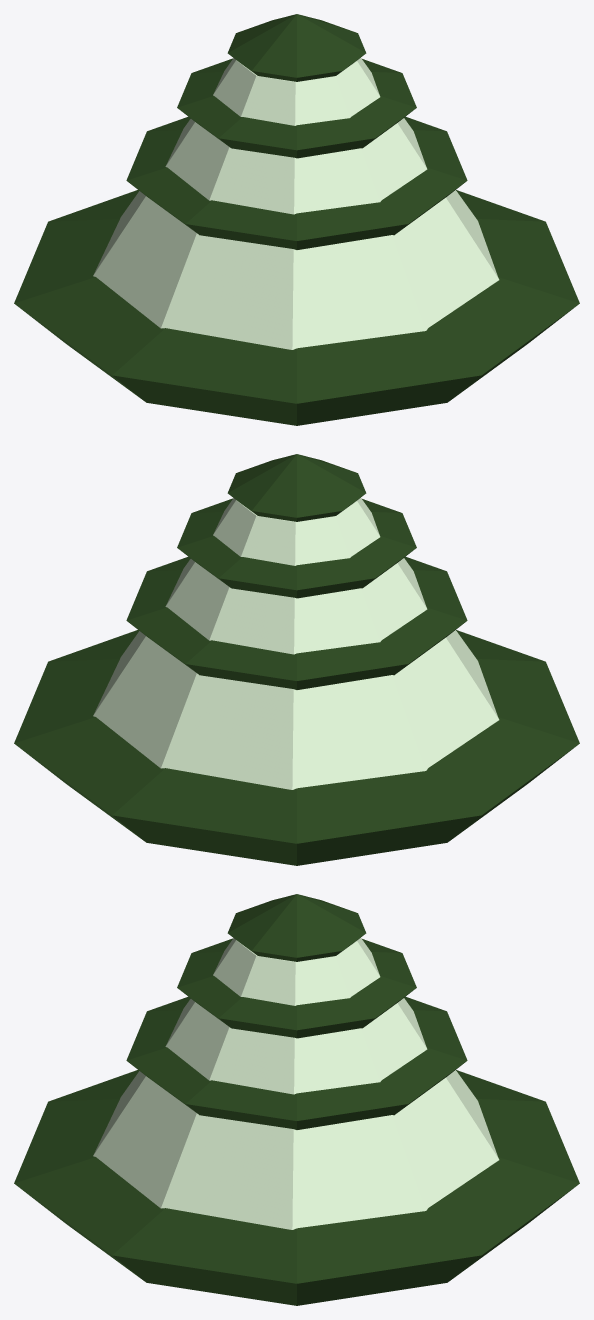
Rendered from itemplatform.fbx.
3 renders of one model, top to bottom at view 1: azimuth 30°, elevation 25°; view 2: azimuth 150°, elevation 25°; view 3: azimuth 270°, elevation 25°, orthographic.
Visible parts, largest first — view 1: Torus.003; view 2: Torus.003; view 3: Torus.003.
Boxes of the visible parts, x1,y1,x2,y2 form: Torus.003: [14, 14, 579, 425]; Torus.003: [14, 454, 579, 865]; Torus.003: [14, 894, 579, 1305].
Size of the model in its own units: 2.45 by 1.52 by 2.48.
